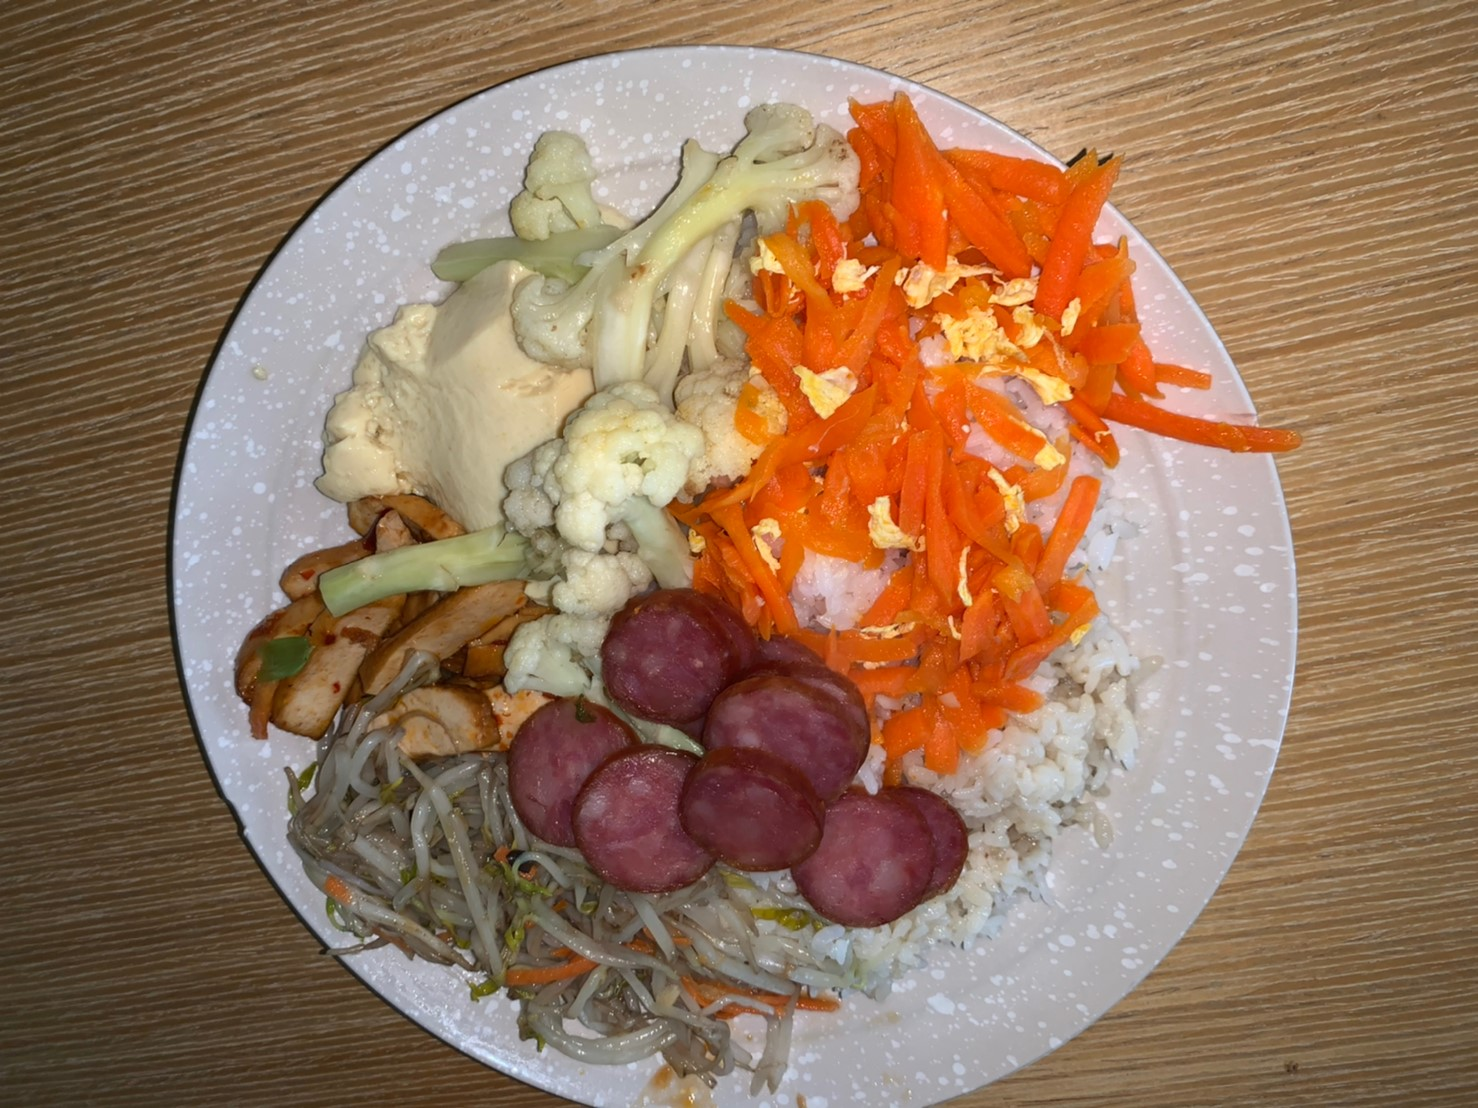carrot_eggs: (738, 151, 1134, 655)
chinese_sausage: (519, 595, 973, 890)
mung_bean_sprouts: (283, 759, 689, 1088)
rice: (793, 622, 1141, 970)
